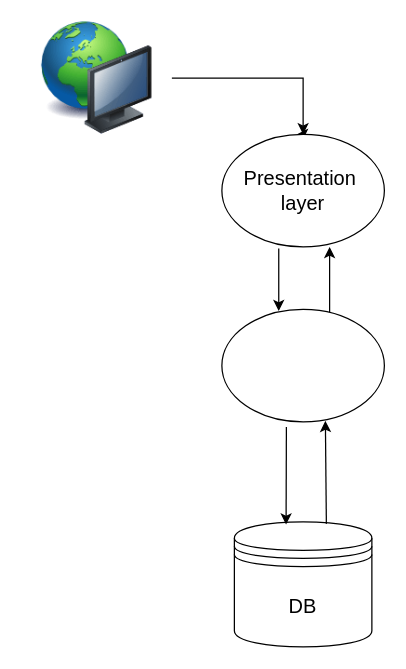
Image size: 406x669. Some labels were removed from this diagram. Each missing label, with the centre of its shape:
"Application Layer" belongs at (x=302, y=365).
"BROWSER" belongs at (x=96, y=77).
